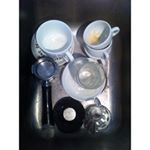cups: (35, 17, 77, 66), (81, 17, 120, 51)
